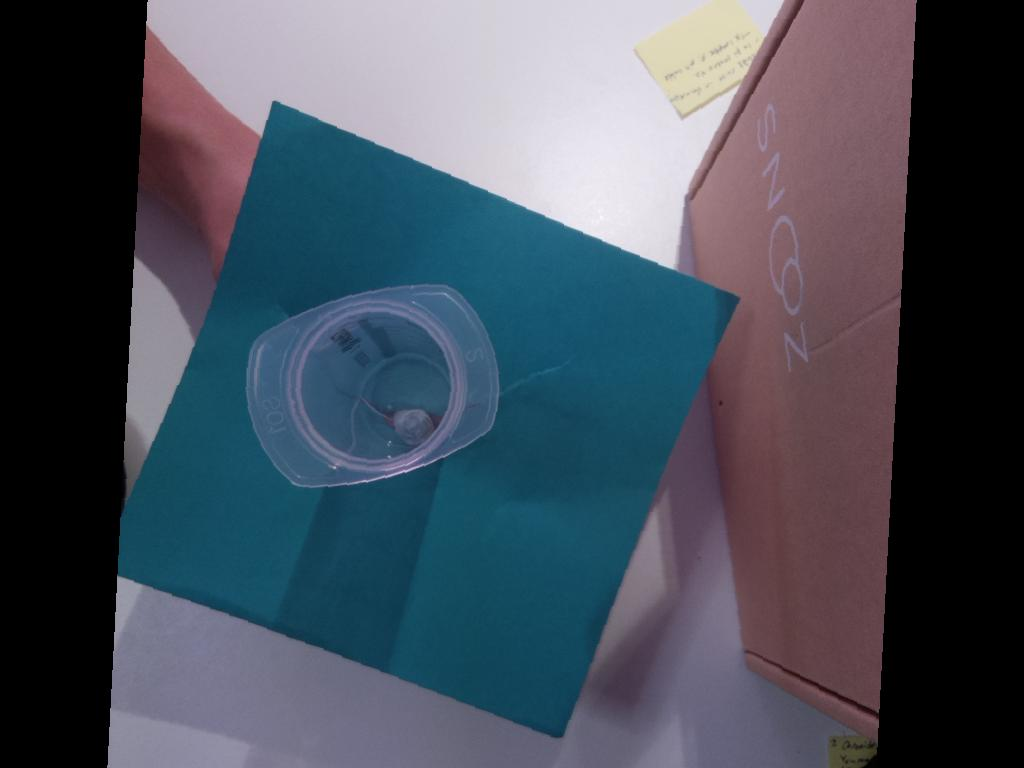clean: (246, 283, 499, 486)
